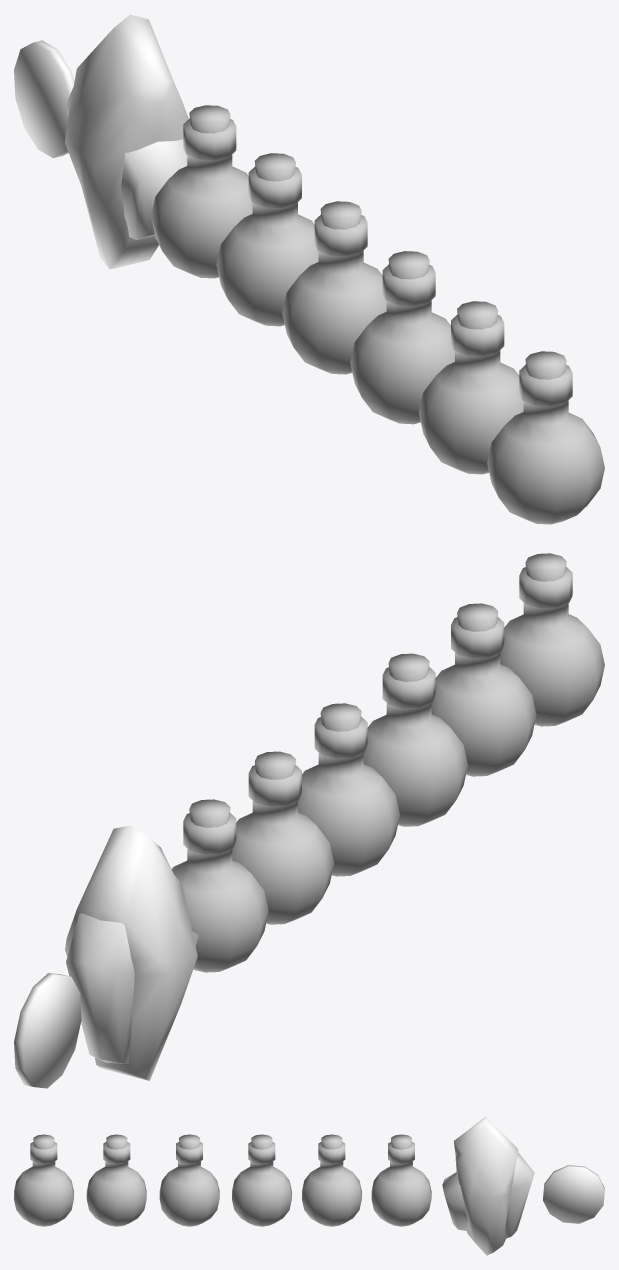
The model's file is resources.fbx.
3 renders of one model, top to bottom at view 1: azimuth 30°, elevation 25°; view 2: azimuth 150°, elevation 25°; view 3: azimuth 270°, elevation 25°, orthographic. The views are drawn at different scales.
Parts seen in each view (by area): view 1: crystal, potion_6, potion_4, potion_5, potion_3, potion_2, potion_1, coin; view 2: crystal, potion_5, potion_6, potion_4, potion_3, potion_2, potion_1, coin; view 3: crystal, potion_5, potion_2, potion_3, potion_6, potion_1, potion_4, coin.
Boxes of the visible parts, box(x1,y1,x2,y2) form: crystal: box(65, 14, 188, 269); potion_6: box(487, 351, 604, 524); potion_4: box(350, 251, 454, 424); potion_5: box(418, 301, 523, 474); potion_3: box(282, 201, 386, 374); potion_2: box(216, 153, 318, 326); potion_1: box(151, 105, 252, 278); coin: box(14, 40, 74, 158); crystal: box(65, 825, 198, 1080); potion_5: box(431, 603, 536, 776); potion_6: box(500, 553, 604, 726); potion_4: box(363, 653, 467, 826); potion_3: box(298, 703, 399, 876); potion_2: box(232, 751, 334, 924); potion_1: box(171, 799, 268, 972); coin: box(14, 973, 81, 1088); crystal: box(442, 1117, 534, 1255); potion_5: box(86, 1134, 146, 1226); potion_2: box(302, 1134, 361, 1226); potion_3: box(232, 1134, 291, 1226); potion_6: box(14, 1134, 73, 1226); potion_1: box(371, 1134, 431, 1226); potion_4: box(159, 1134, 219, 1226); coin: box(543, 1165, 604, 1223).
Size of the model in its own units: 20.16 by 46.65 by 188.
